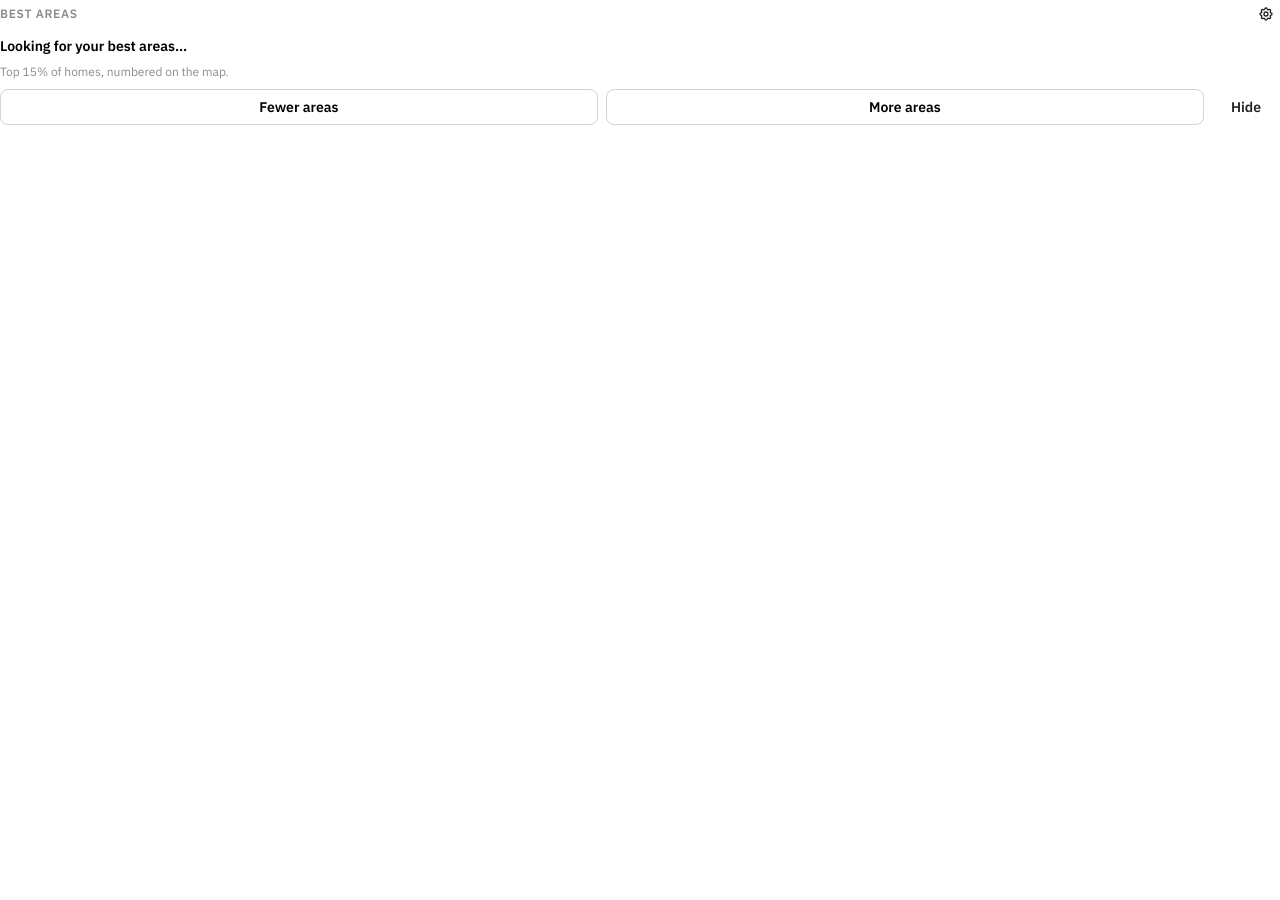
Test: BestAreasControls (TODO-052) › opens the search filters (the Idealista search to reuse) in a popover
The image size is (1280, 900).
Expected: the text "Zone links reuse the filters" is not shown
Click the button named "Search filters" at [1266, 14], box left=1252, top=0, right=1279, bottom=28
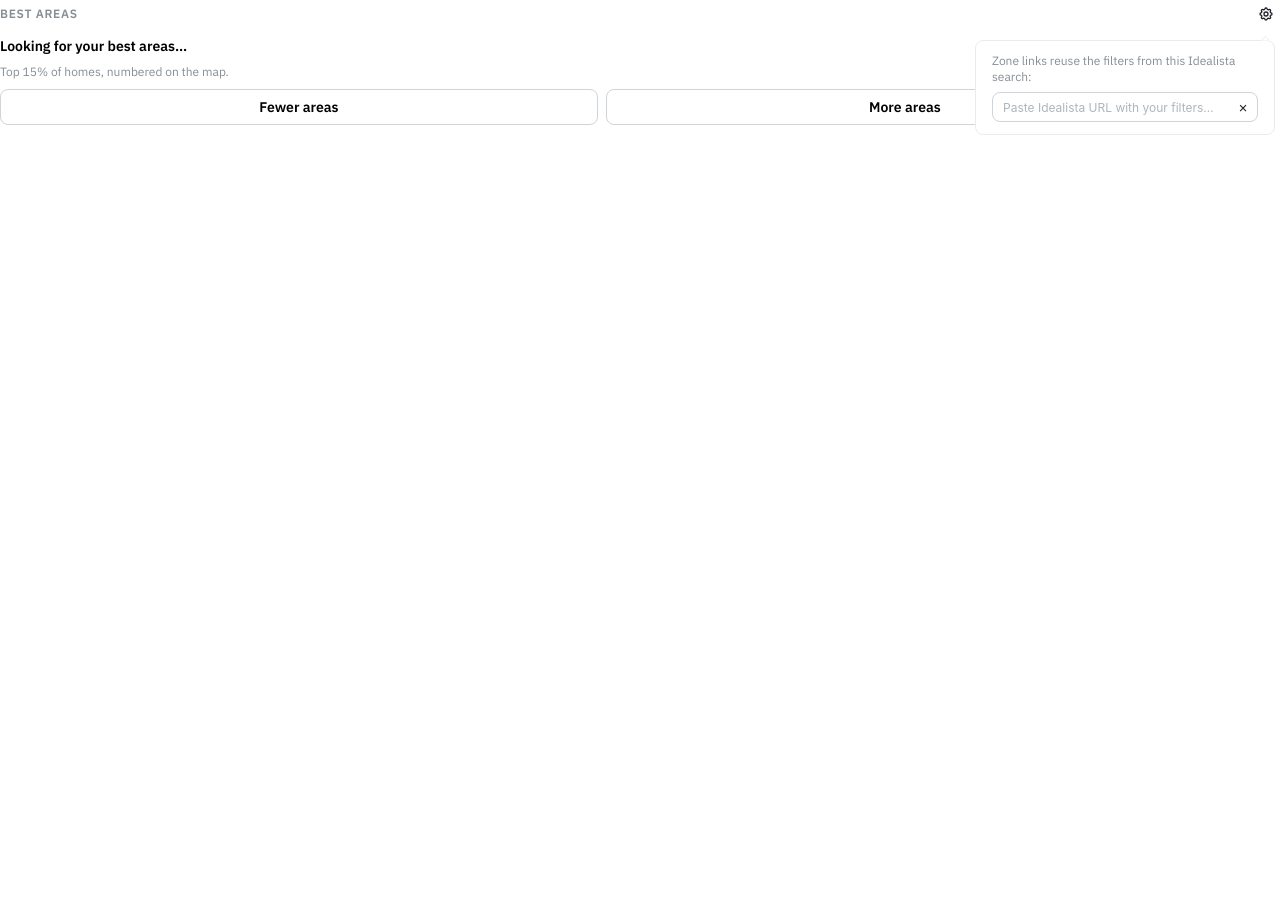
Expected: the text "Zone links reuse the filters from this Idealista search:" is shown, left=992, top=52, right=1258, bottom=86
